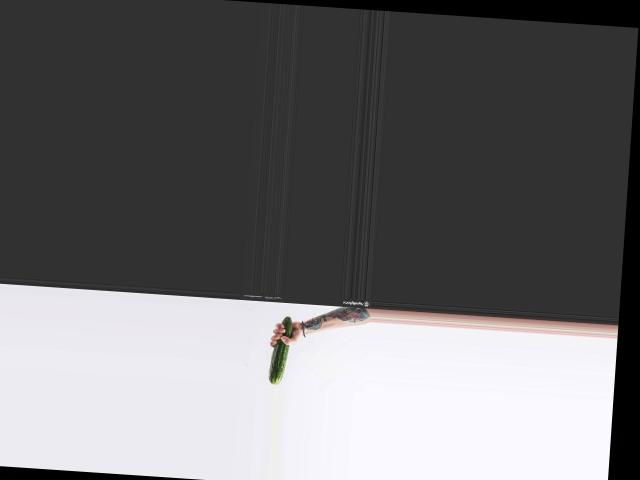cucumber: (267, 315, 292, 385)
